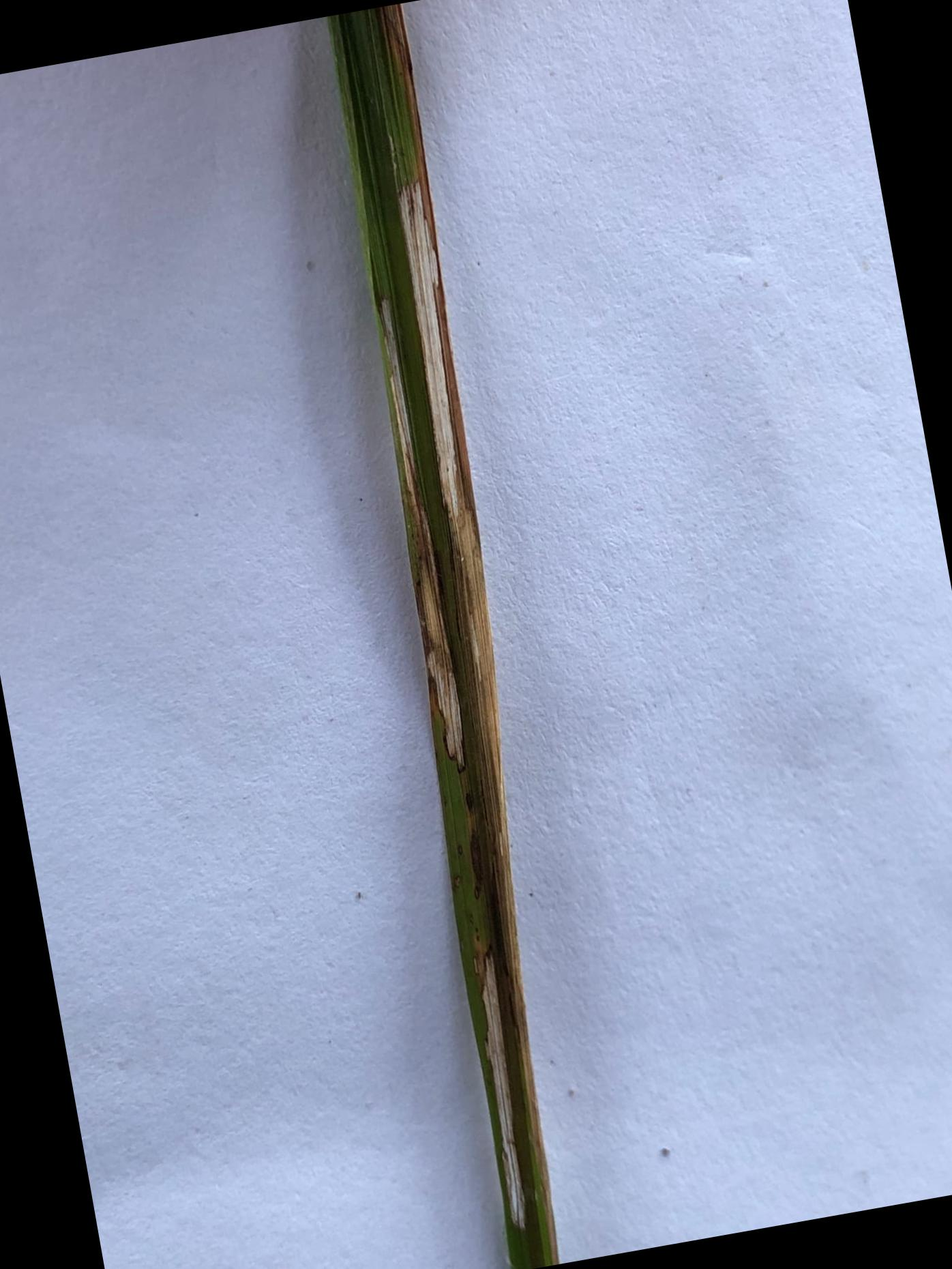Leaf Blight: (380, 4, 560, 1266), (374, 296, 464, 774), (482, 949, 526, 1229)
